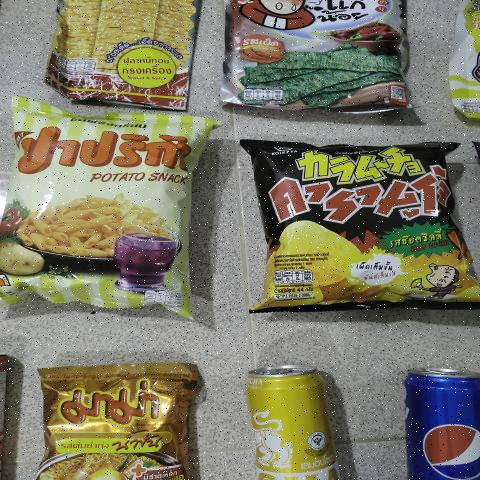karamujo: (261, 144, 461, 312)
mama: (43, 370, 201, 480)
paprika: (0, 110, 215, 320)
pepsi_blue: (384, 359, 480, 480)
singha_yellow: (230, 360, 345, 480)
